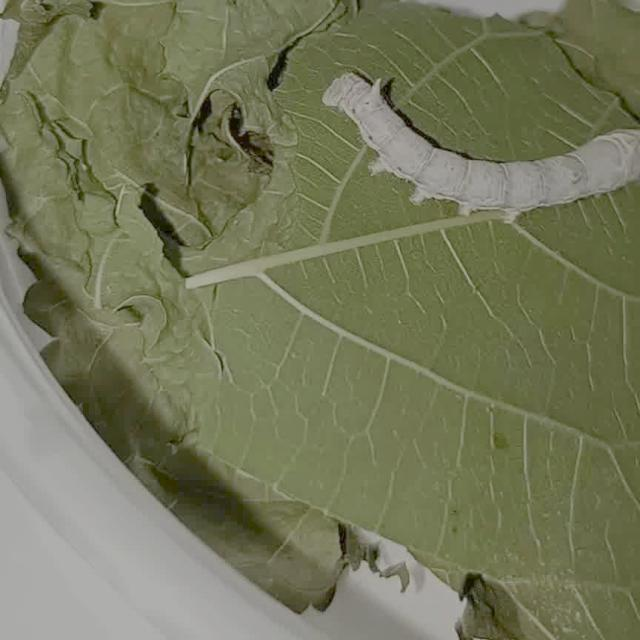Healthy: (309, 56, 640, 228)
